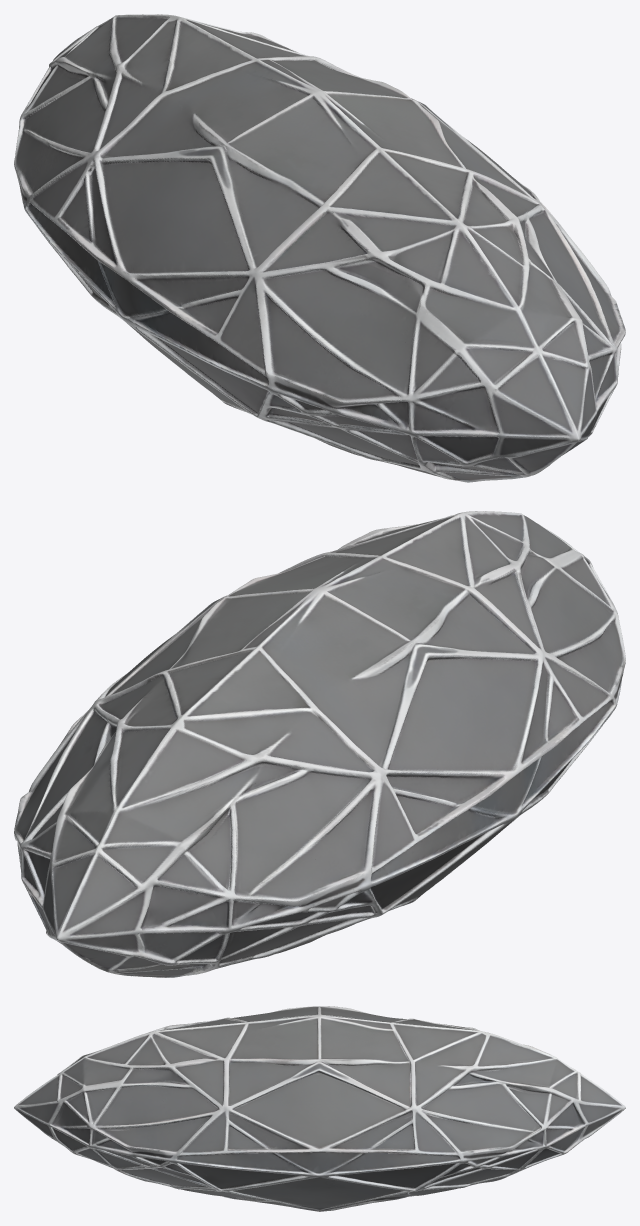
The model's file is gem-oval.glb.
The picture shows the model from 3 angles, top to bottom: view 1: azimuth 30°, elevation 25°; view 2: azimuth 150°, elevation 25°; view 3: azimuth 270°, elevation 25°; orthographic projection. The views are drawn at different scales.
Parts seen in each view (by area): view 1: model; view 2: model; view 3: model.
Part boxes in pixels (x1,y1,x2,y2): model: (14, 14, 625, 482); model: (14, 511, 625, 977); model: (14, 1006, 625, 1211).
Bounding box in the file's own units: 0.8266 × 0.6377 × 1.9.
Materials: 1 (1 with a texture image).
